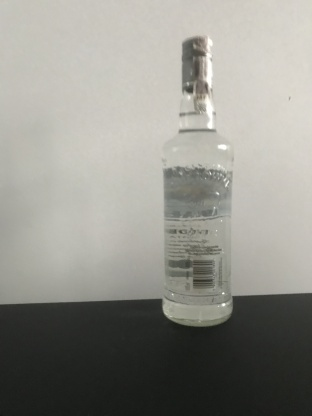nakretka: (179, 32, 214, 93)
